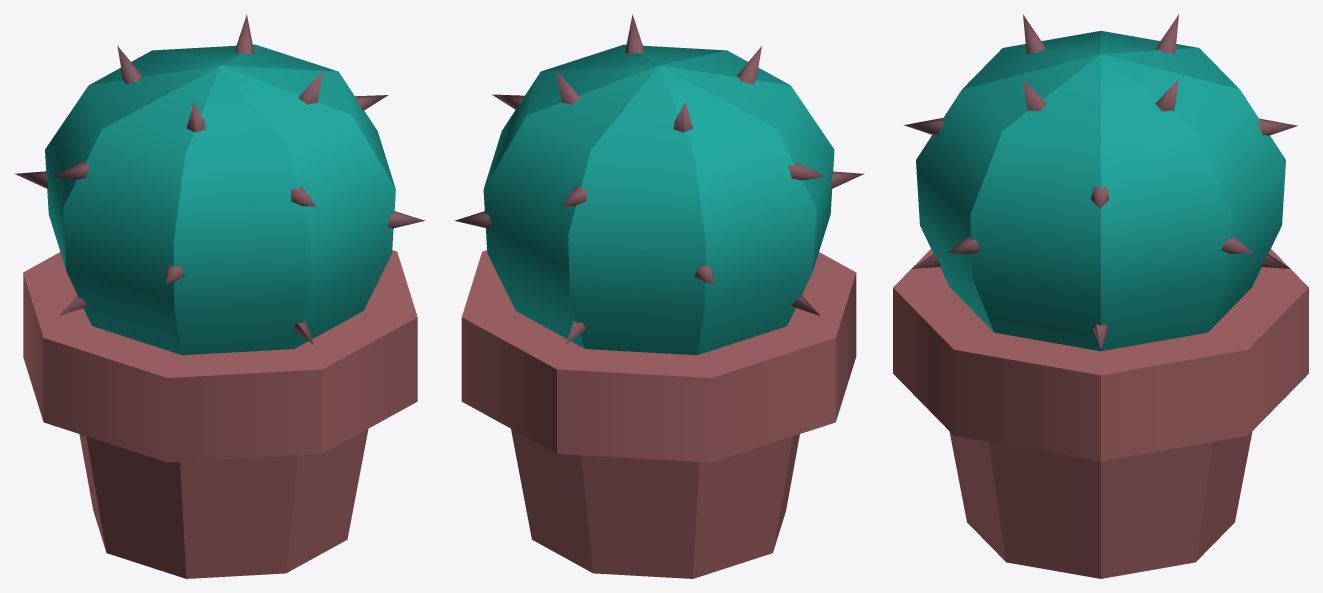
Rendered from Cactus.fbx.
3 renders of one model, left to right at view 1: azimuth 30°, elevation 25°; view 2: azimuth 150°, elevation 25°; view 3: azimuth 270°, elevation 25°, orthographic.
Parts seen in each view (by area): view 1: _cactus:_cactus_0; view 2: _cactus:_cactus_0; view 3: _cactus:_cactus_0.
Part boxes in pixels (x1=…): _cactus:_cactus_0: x1=14, y1=14, x2=425, y2=578; _cactus:_cactus_0: x1=454, y1=14, x2=864, y2=578; _cactus:_cactus_0: x1=893, y1=14, x2=1308, y2=578.
Bounding box in the file's own units: 0.8705 × 1.1 × 0.8705.
